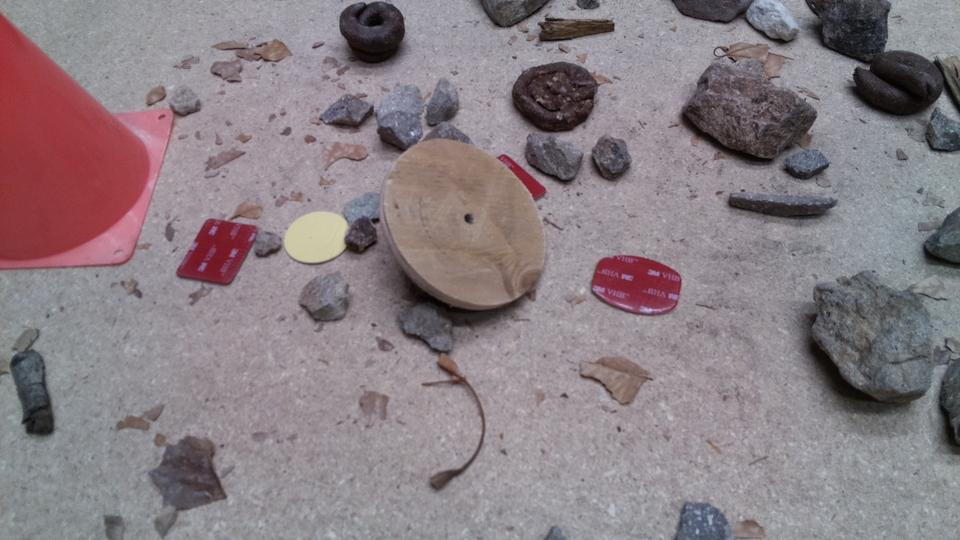poop: (510, 60, 601, 135), (850, 50, 943, 117), (338, 1, 407, 65)
